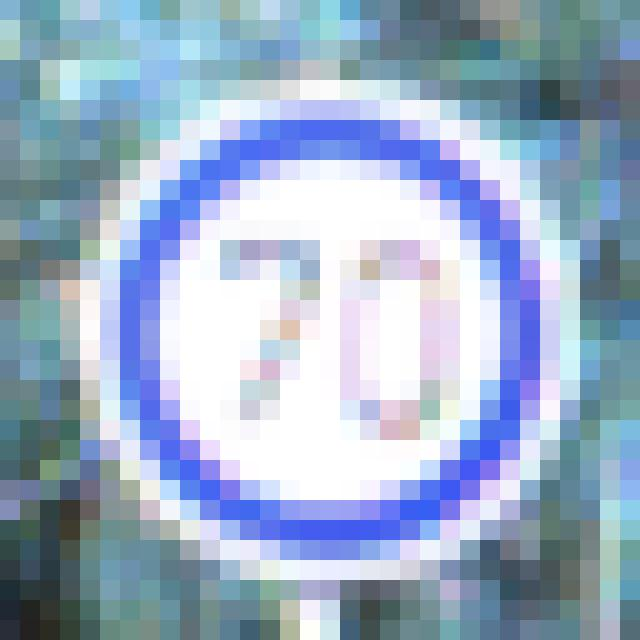SPEED LIMIT 70: (101, 105, 569, 576)
